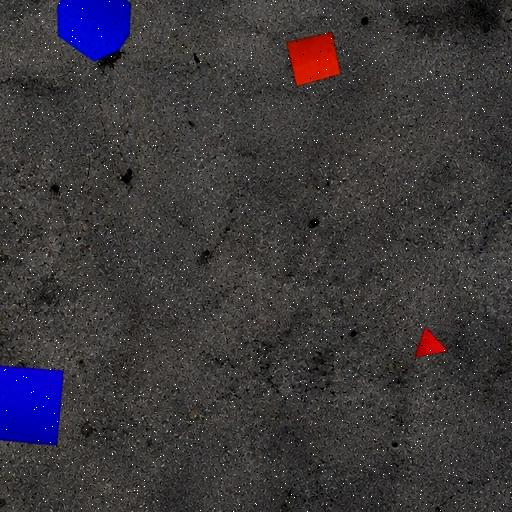BLUE_SQUARE: (0, 364, 64, 446)
RED_SQUARE: (286, 31, 342, 87)
